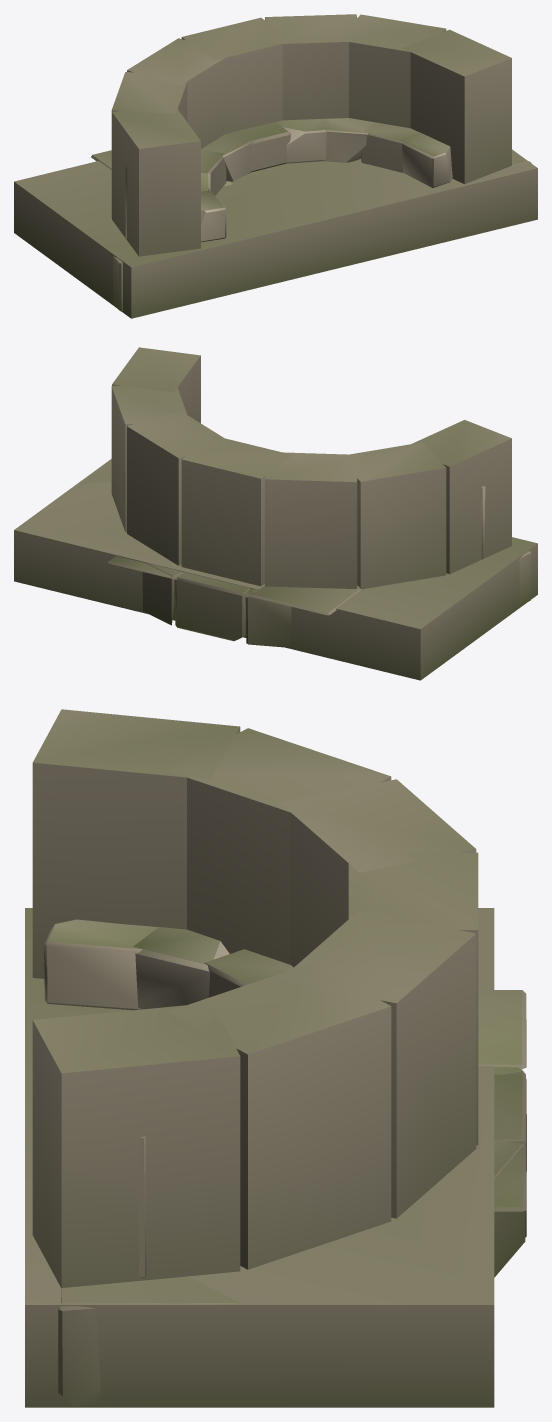
The model's file is tombs_exedra.glb.
3 renders of one model, top to bottom at view 1: azimuth 30°, elevation 25°; view 2: azimuth 150°, elevation 25°; view 3: azimuth 270°, elevation 25°, orthographic. The views are drawn at different scales.
Parts seen in each view (by area): view 1: tombs_exedra_far, tombs_exedra; view 2: tombs_exedra_far, tombs_exedra; view 3: tombs_exedra_far, tombs_exedra.
Part boxes in pixels (left/top/right/bottom): tombs_exedra_far: left=14, top=14, right=537, bottom=318; tombs_exedra: left=91, top=118, right=530, bottom=311; tombs_exedra_far: left=14, top=347, right=537, bottom=680; tombs_exedra: left=79, top=460, right=531, bottom=647; tombs_exedra_far: left=25, top=709, right=494, bottom=1407; tombs_exedra: left=44, top=919, right=526, bottom=1406.
Size of the model in its own units: 17.64 by 6.5 by 9.31.
